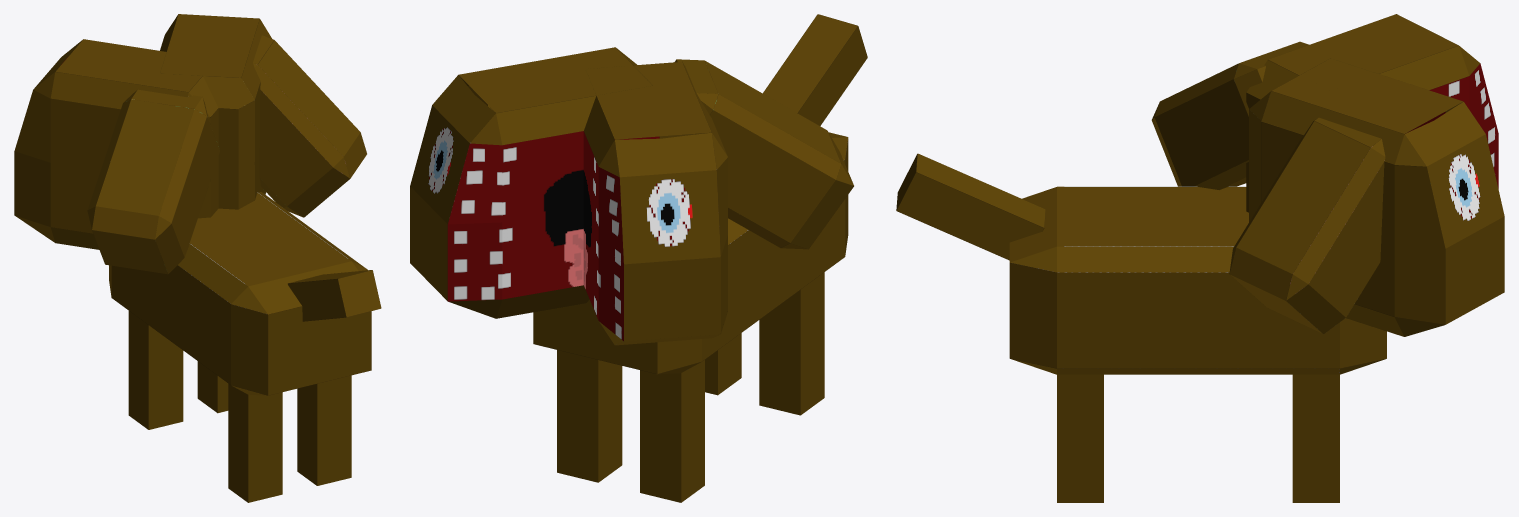
Rendered from ohnonotthedoggy.fbx.
3 renders of one model, left to right at view 1: azimuth 30°, elevation 25°; view 2: azimuth 150°, elevation 25°; view 3: azimuth 270°, elevation 25°, orthographic. The views are drawn at different scales.
Parts seen in each view (by area): view 1: beveled_cuboid, beveled_cuboid_4, beveled_cuboid_1, beveled_cuboid_2, beveled_cuboid_3, mesh_3, mesh_4, mesh_2, mesh, mesh_1; view 2: beveled_cuboid_3, beveled_cuboid_4, beveled_cuboid_1, beveled_cuboid, mesh_2, mesh_1, mesh_3, mesh, mesh_4; view 3: beveled_cuboid, beveled_cuboid_3, beveled_cuboid_2, beveled_cuboid_4, beveled_cuboid_1, mesh, mesh_1, mesh_4.
Boxes of the visible parts, bbox=[...] form: beveled_cuboid: bbox=[109, 192, 371, 395]; beveled_cuboid_4: bbox=[14, 39, 218, 249]; beveled_cuboid_1: bbox=[87, 89, 219, 274]; beveled_cuboid_2: bbox=[253, 35, 366, 217]; beveled_cuboid_3: bbox=[160, 14, 271, 209]; mesh_3: bbox=[228, 383, 282, 502]; mesh_4: bbox=[297, 375, 351, 485]; mesh_2: bbox=[128, 311, 183, 429]; mesh: bbox=[288, 270, 381, 321]; mesh_1: bbox=[197, 361, 228, 413]; beveled_cuboid_3: bbox=[410, 47, 661, 318]; beveled_cuboid_4: bbox=[583, 62, 727, 345]; beveled_cuboid_1: bbox=[661, 59, 853, 249]; beveled_cuboid: bbox=[533, 132, 848, 374]; mesh_2: bbox=[640, 360, 704, 502]; mesh_1: bbox=[557, 350, 622, 482]; mesh_3: bbox=[759, 272, 824, 415]; mesh: bbox=[763, 14, 867, 125]; mesh_4: bbox=[705, 333, 741, 395]; beveled_cuboid: bbox=[1009, 186, 1386, 374]; beveled_cuboid_3: bbox=[1249, 58, 1504, 336]; beveled_cuboid_2: bbox=[1229, 117, 1385, 334]; beveled_cuboid_4: bbox=[1246, 14, 1498, 212]; beveled_cuboid_1: bbox=[1151, 41, 1309, 189]; mesh: bbox=[896, 153, 1045, 260]; mesh_1: bbox=[1292, 374, 1339, 502]; mesh_4: bbox=[1057, 374, 1103, 502].
Bounding box in the file's own units: 111 × 117 × 161.
Materials: 6 (6 with a texture image).
